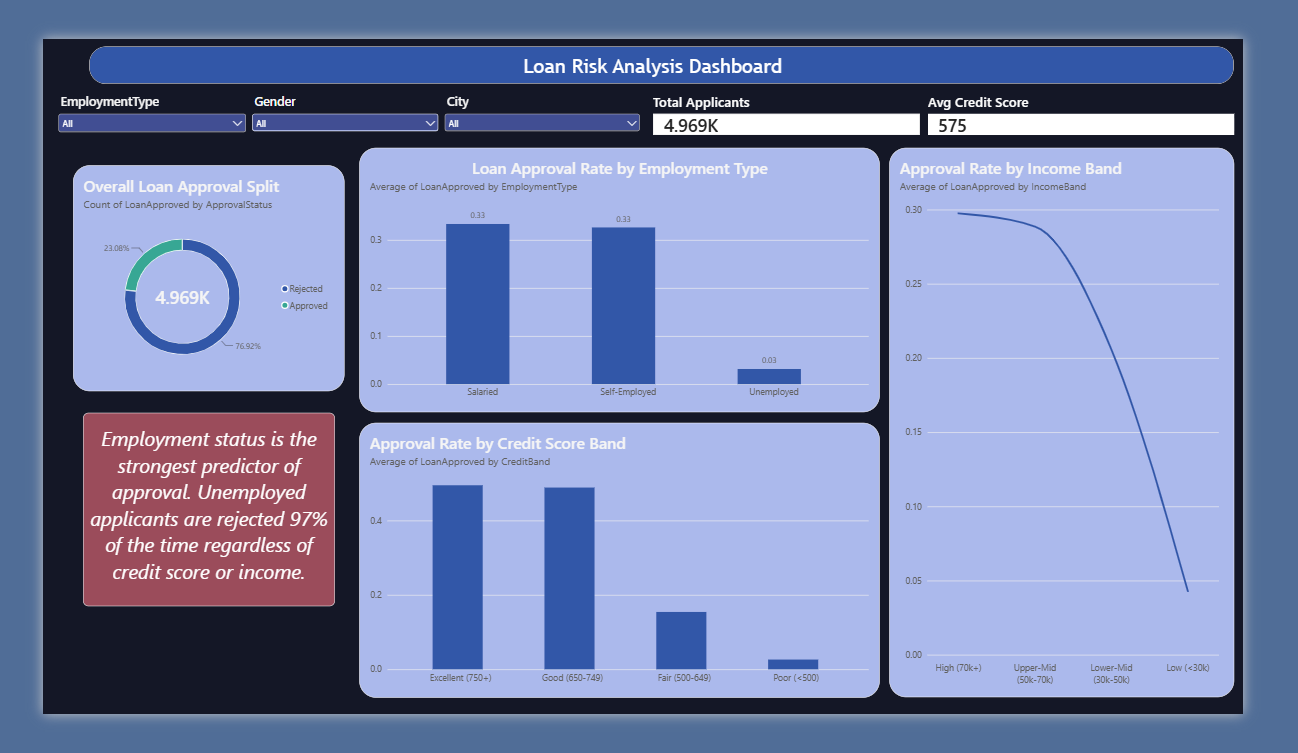

Layout of this report page (visuals, bound fields, positions):
{"tool":"powerbi","page":{"name":"Page 1","canvas":[1920,1080],"ordinal":0},"visuals":[{"type":"clusteredColumnChart","title":"Loan Approval Rate by Employment Type","fields":{"Category":["public loans (2).EmploymentType"],"Y":["Avg(public loans (2).LoanApproved)"]},"box":[506.7,173.7,832.4,423.5],"z":0},{"type":"cardVisual","title":"Total Applicants","fields":{"Data":["CountNonNull(public loans (2).LoanApproved)"]},"box":[975.4,85.1,427.1,68.8],"z":1000},{"type":"cardVisual","title":"Avg Credit Score","fields":{"Data":["Avg(public loans (2).CreditScore)"]},"box":[1415.2,85.1,490.4,68.8],"z":2000},{"type":"clusteredColumnChart","title":"Approval Rate by Credit Score Band","fields":{"Category":["public loans (2).CreditBand"],"Y":["Avg(public loans (2).LoanApproved)"]},"box":[506.7,613.5,832.4,439.7],"z":3000},{"type":"lineChart","title":"Approval Rate by Income Band","fields":{"Category":["public loans (2).IncomeBand"],"Y":["Avg(public loans (2).LoanApproved)"]},"box":[1353.6,173.7,551.9,879.5],"z":4000},{"type":"donutChart","title":"Overall Loan Approval Split","fields":{"Category":["public loans (2).ApprovalStatus"],"Y":["CountNonNull(public loans (2).LoanApproved)"]},"box":[48.9,202.7,434.3,361.9],"z":5000},{"type":"shape","box":[74.2,12.7,1831.4,59.7],"z":6000},{"type":"textbox","box":[211.7,23.5,1527.4,48.9],"z":7000},{"type":"slicer","fields":{"Values":["public loans (2).EmploymentType"]},"box":[19.9,85.1,309.5,70.6],"z":8000},{"type":"slicer","fields":{"Values":["public loans (2).Gender"]},"box":[329.4,86.9,307.6,70.6],"z":9000},{"type":"slicer","fields":{"Values":["public loans (2).City"]},"box":[637,86.9,322.1,115.8],"z":10000},{"type":"textbox","box":[63.3,597.2,403.6,309.5],"z":11000}]}

Visuals, with their boxes in screenshot pixels (x1, y1, x2, y2):
"Loan Approval Rate by Employment Type" clusteredColumnChart: [336, 142, 871, 414]
"Total Applicants" cardVisual: [637, 85, 912, 129]
"Avg Credit Score" cardVisual: [920, 85, 1236, 129]
"Approval Rate by Credit Score Band" clusteredColumnChart: [336, 425, 871, 708]
"Approval Rate by Income Band" lineChart: [881, 142, 1235, 708]
"Overall Loan Approval Split" donutChart: [42, 161, 321, 393]
shape: [58, 39, 1236, 77]
textbox: [146, 46, 1128, 77]
slicer - public loans (2).EmploymentType: [23, 85, 222, 131]
slicer - public loans (2).Gender: [222, 86, 420, 132]
slicer - public loans (2).City: [420, 86, 627, 161]
textbox: [51, 414, 310, 613]
